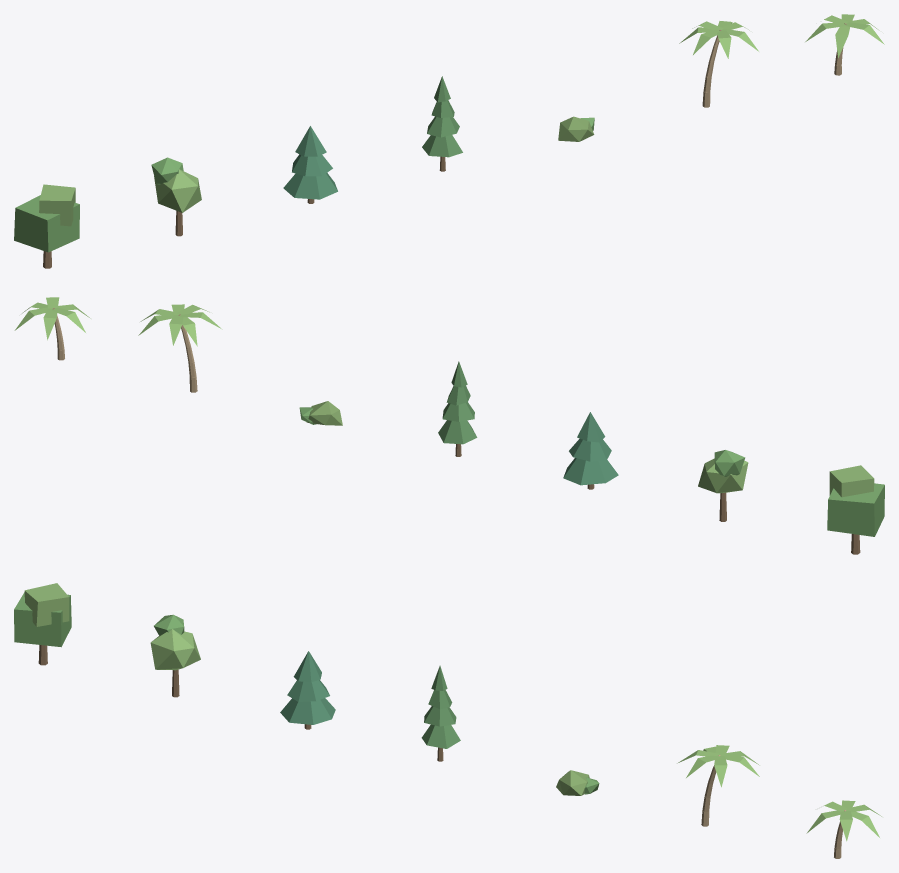
The model's file is arboles.glb.
The picture shows the model from 3 angles, top to bottom: view 1: azimuth 30°, elevation 25°; view 2: azimuth 150°, elevation 25°; view 3: azimuth 330°, elevation 25°; orthographic projection.
Parts seen in each view (by area): view 1: Arbol_Bosque_Roble_copa, Arbol_Bosque_Redondo_copa, Arbol_Bosque_Roble_copa2, Arbol_Bosque_Pino_copa0, Arbol_Bosque_Arbusto_copa, Arbol_Bosque_Pino_copa1, Arbol_Bosque_PinoAlto_copa0, Arbol_Bosque_Redondo_copa2, Arbol_Bosque_Pino_copa2, Arbol_Bosque_PinoAlto_copa1; view 2: Arbol_Bosque_Roble_copa, Arbol_Bosque_Roble_copa2, Arbol_Bosque_Pino_copa0, Arbol_Bosque_Redondo_copa, Arbol_Bosque_Pino_copa1, Arbol_Bosque_PinoAlto_copa0, Arbol_Bosque_Arbusto_copa, Arbol_Bosque_Redondo_copa2, Arbol_Bosque_PinoAlto_copa1; view 3: Arbol_Bosque_Roble_copa, Arbol_Bosque_Redondo_copa, Arbol_Bosque_Roble_copa2, Arbol_Bosque_Pino_copa0, Arbol_Bosque_Pino_copa1, Arbol_Bosque_PinoAlto_copa0, Arbol_Bosque_Arbusto_copa.
Boxes of the visible parts, bbox=[...] form: Arbol_Bosque_Roble_copa: bbox=[14, 195, 79, 252]; Arbol_Bosque_Redondo_copa: bbox=[154, 169, 201, 212]; Arbol_Bosque_Roble_copa2: bbox=[39, 184, 75, 226]; Arbol_Bosque_Pino_copa0: bbox=[283, 173, 337, 199]; Arbol_Bosque_Arbusto_copa: bbox=[558, 116, 594, 141]; Arbol_Bosque_Pino_copa1: bbox=[292, 154, 332, 176]; Arbol_Bosque_PinoAlto_copa0: bbox=[422, 135, 462, 157]; Arbol_Bosque_Redondo_copa2: bbox=[151, 157, 183, 184]; Arbol_Bosque_Pino_copa2: bbox=[295, 126, 326, 156]; Arbol_Bosque_PinoAlto_copa1: bbox=[427, 116, 459, 137]; Arbol_Bosque_Roble_copa: bbox=[827, 483, 884, 536]; Arbol_Bosque_Roble_copa2: bbox=[829, 465, 874, 497]; Arbol_Bosque_Pino_copa0: bbox=[563, 458, 618, 485]; Arbol_Bosque_Redondo_copa: bbox=[698, 458, 748, 493]; Arbol_Bosque_Pino_copa1: bbox=[569, 438, 611, 461]; Arbol_Bosque_PinoAlto_copa0: bbox=[438, 420, 477, 444]; Arbol_Bosque_Arbusto_copa: bbox=[306, 401, 342, 425]; Arbol_Bosque_Redondo_copa2: bbox=[714, 450, 745, 476]; Arbol_Bosque_PinoAlto_copa1: bbox=[442, 402, 474, 421]; Arbol_Bosque_Roble_copa: bbox=[14, 592, 71, 647]; Arbol_Bosque_Redondo_copa: bbox=[150, 629, 200, 670]; Arbol_Bosque_Roble_copa2: bbox=[24, 583, 69, 626]; Arbol_Bosque_Pino_copa0: bbox=[280, 698, 335, 724]; Arbol_Bosque_Pino_copa1: bbox=[287, 680, 329, 701]; Arbol_Bosque_PinoAlto_copa0: bbox=[421, 724, 460, 748]; Arbol_Bosque_Arbusto_copa: bbox=[556, 770, 589, 795].
Size of the model in its own units: 52.29 by 5.59 by 4.33.
